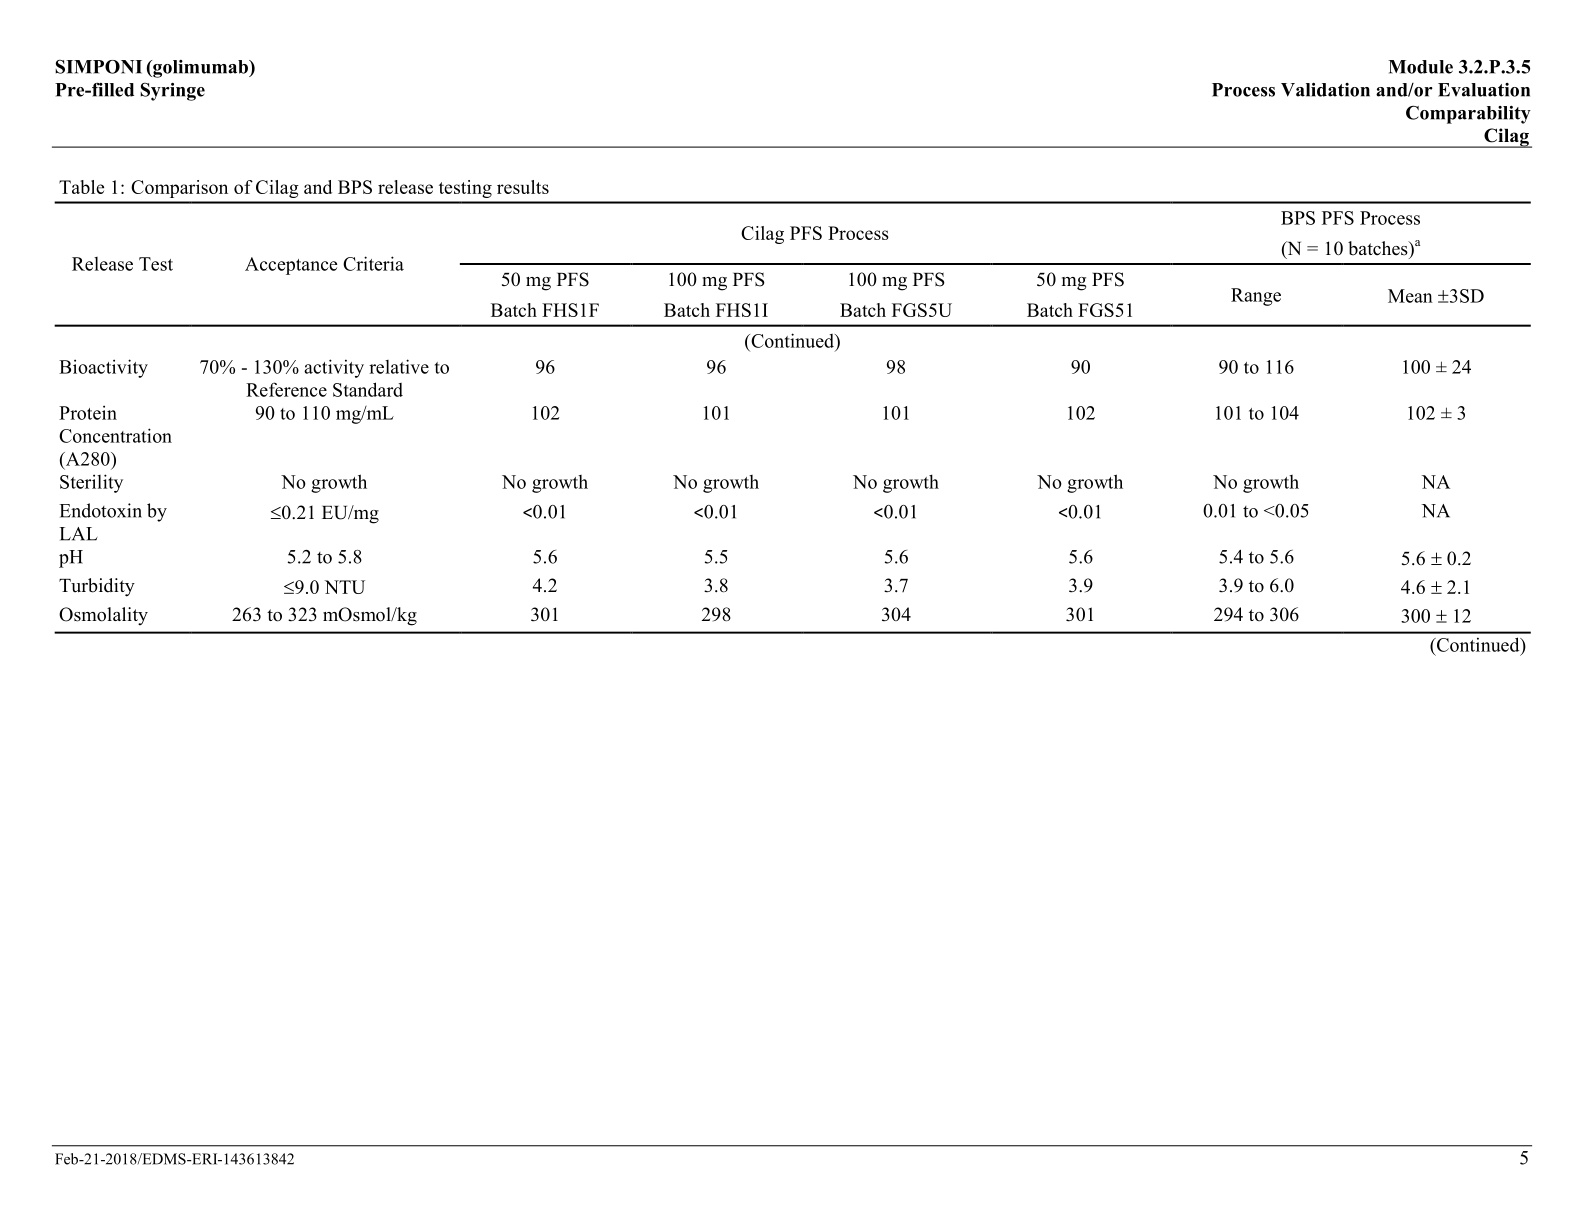partial_lined_merged_cells: (53, 199, 1534, 634)
